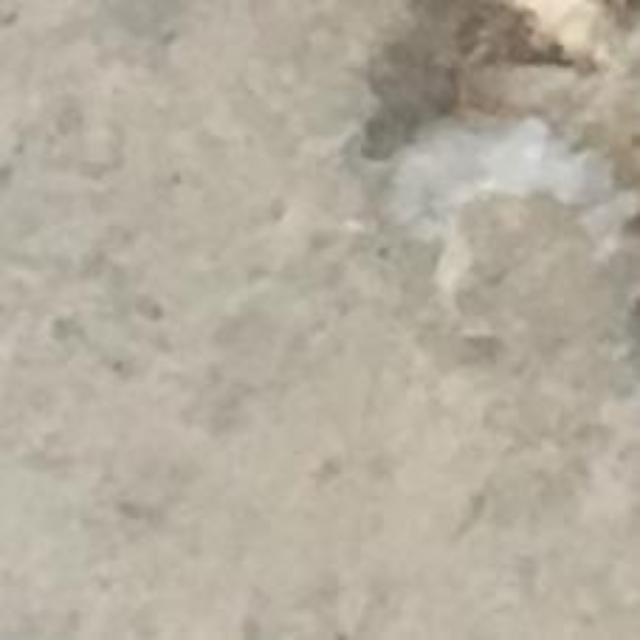peeling plaster: (367, 0, 569, 157)
